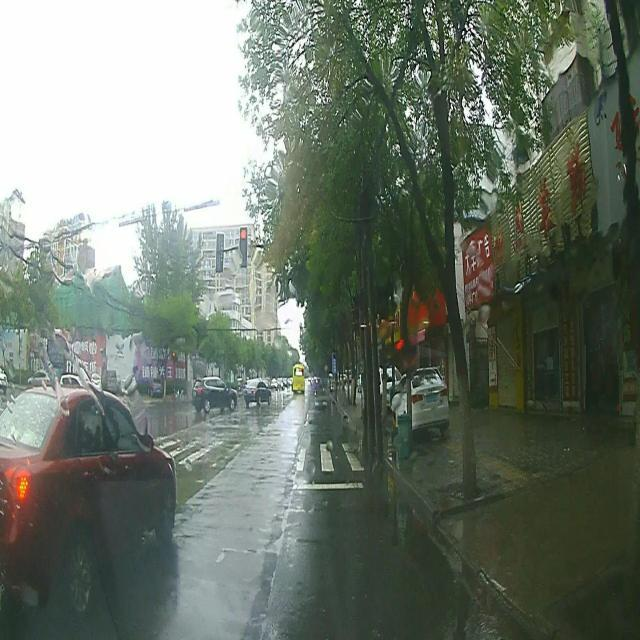car: (0, 390, 176, 596), (194, 377, 236, 413), (245, 376, 272, 406)
